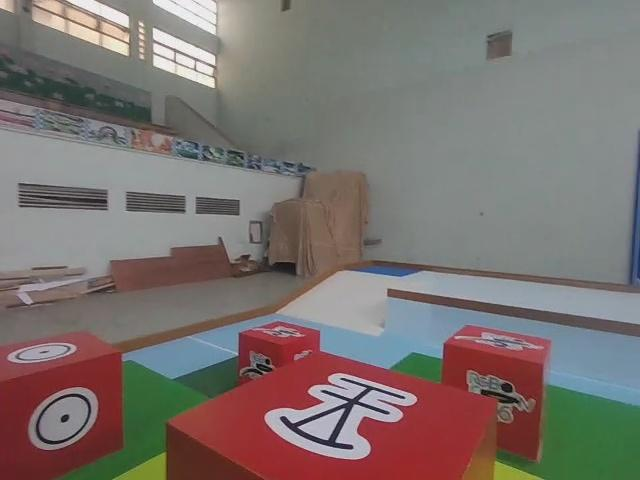R1: (439, 322, 554, 468), (235, 317, 323, 395)
R2 Real: (161, 347, 502, 480), (0, 326, 125, 479)
